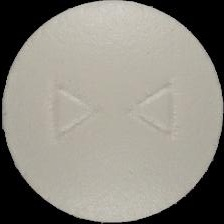53808-0953: (0, 0, 224, 224)
